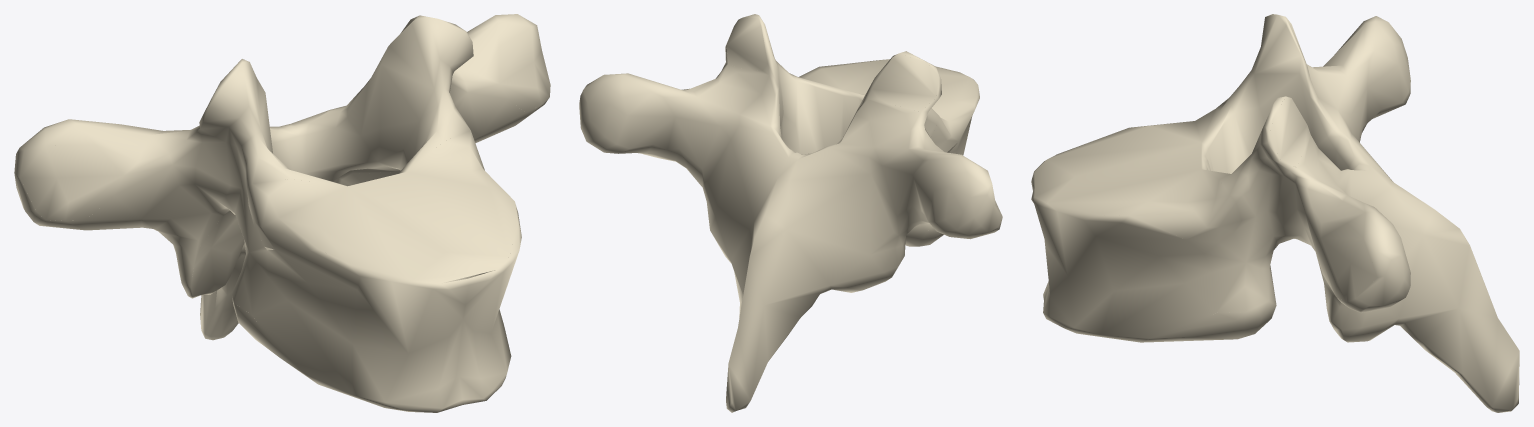
File: esqueleto-vertebra-t5.glb
The picture shows the model from 3 angles, left to right: view 1: azimuth 30°, elevation 25°; view 2: azimuth 150°, elevation 25°; view 3: azimuth 270°, elevation 25°; orthographic projection. The views are drawn at different scales.
Parts seen in each view (by area): view 1: Vertebra T5; view 2: Vertebra T5; view 3: Vertebra T5.
Part boxes in pixels (x1,y1,x2,y2): Vertebra T5: [14, 14, 550, 412]; Vertebra T5: [579, 14, 1002, 412]; Vertebra T5: [1031, 14, 1519, 412].
Bounding box in the file's own units: 0.0754 × 0.0533 × 0.0663.
